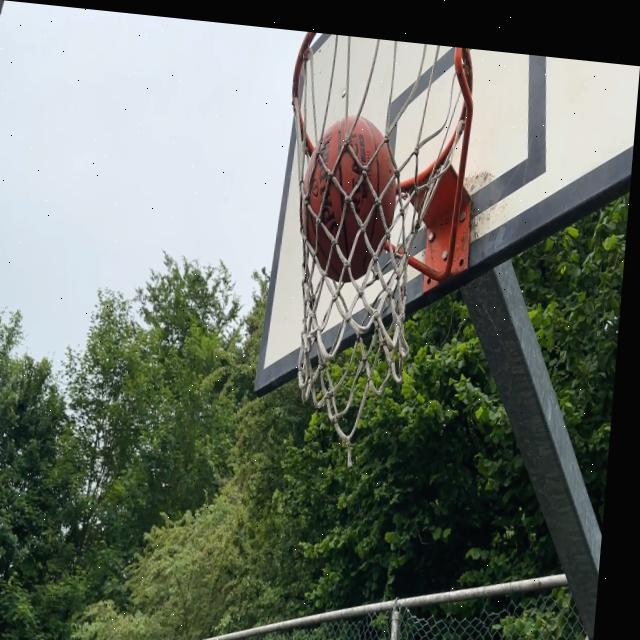Goal: (294, 111, 402, 283)
